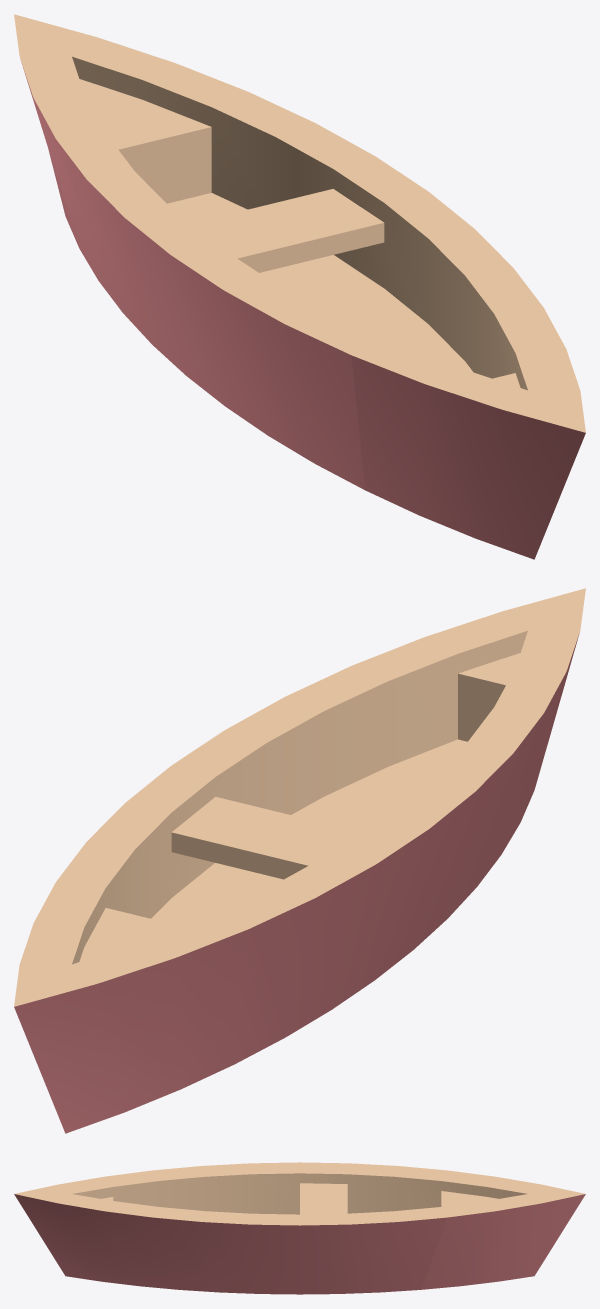
Rendered from canoe.glb.
3 renders of one model, top to bottom at view 1: azimuth 30°, elevation 25°; view 2: azimuth 150°, elevation 25°; view 3: azimuth 270°, elevation 25°, orthographic. The views are drawn at different scales.
Parts seen in each view (by area): view 1: canoe; view 2: canoe; view 3: canoe.
Boxes of the visible parts, box(x1,y1,x2,y2) form: canoe: box(14, 14, 585, 559); canoe: box(14, 588, 585, 1133); canoe: box(14, 1162, 585, 1294).
Bounding box in the file's own units: 0.3 × 0.1825 × 1.15.
